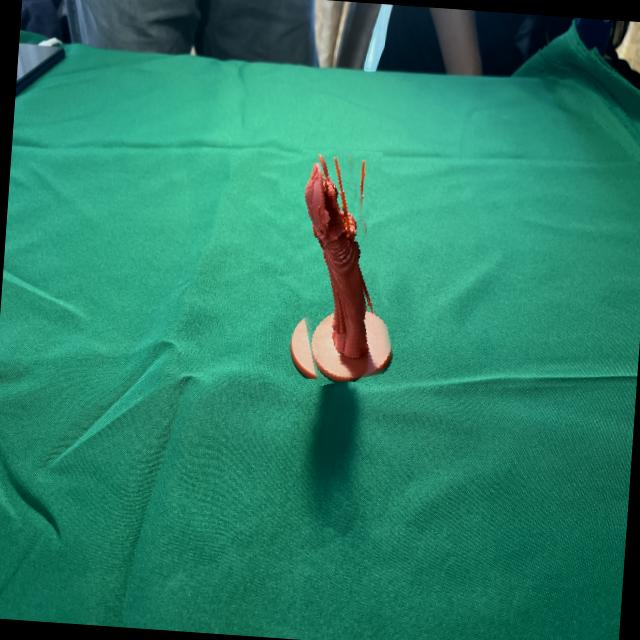amon: (272, 142, 398, 386)
